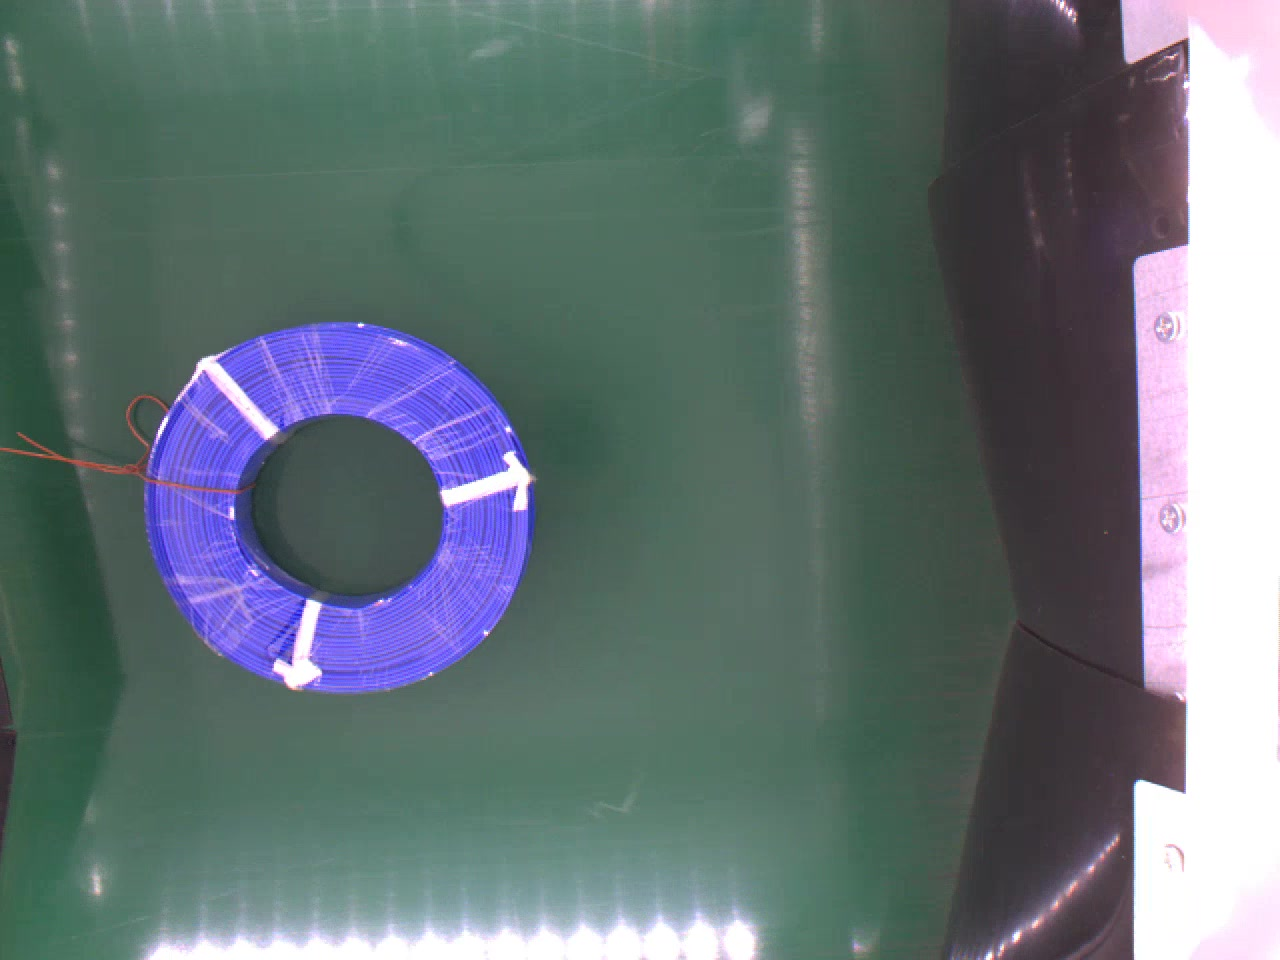blue: (149, 315, 541, 689)
